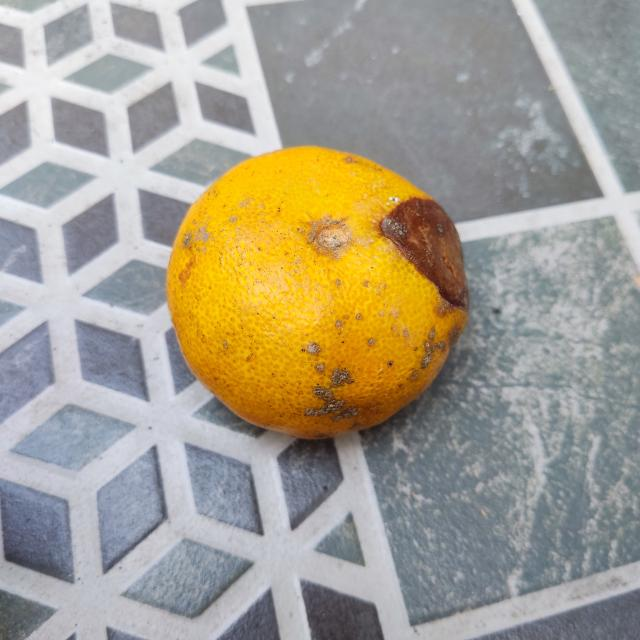orange: (165, 144, 468, 436)
